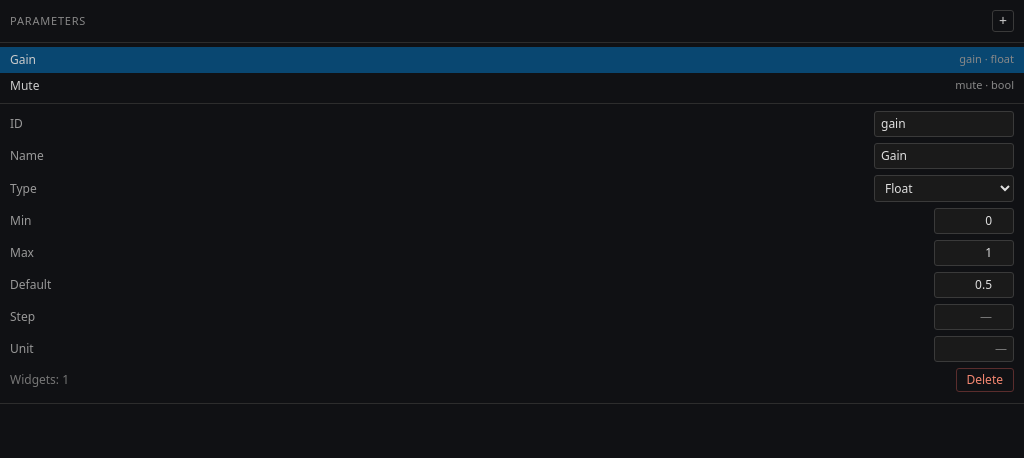
Test: ParametersPanel › rejects a non-numeric value
Step 1. Clear the number field in the row of "Min" → (974, 221), box [934,208,1014,234]
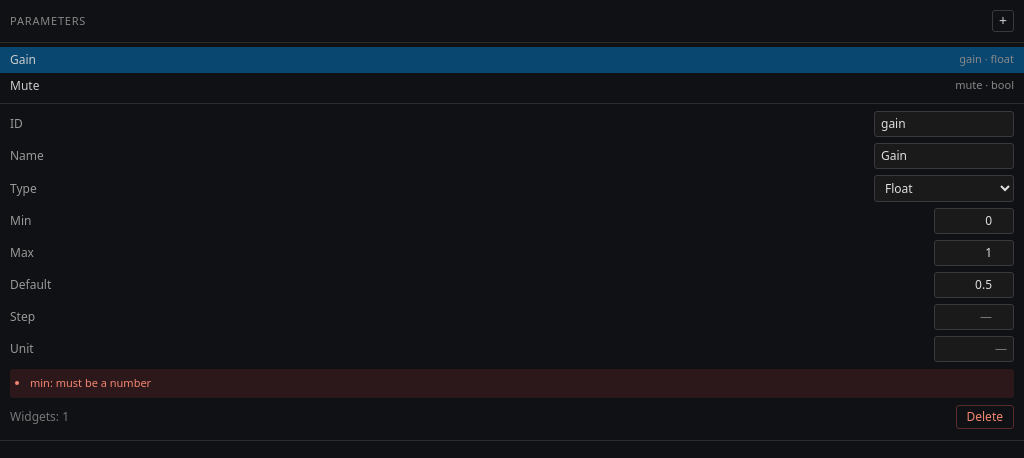
Now the list "min: must be a number" is shown, box [10,369,1014,398]
